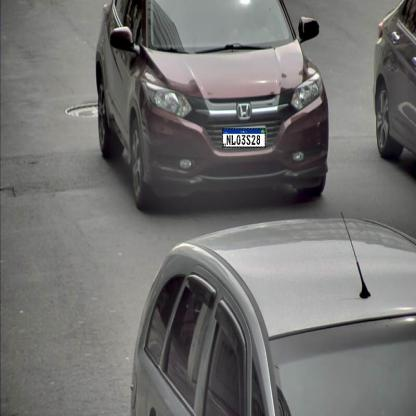PlacaM: (222, 128, 266, 148)
